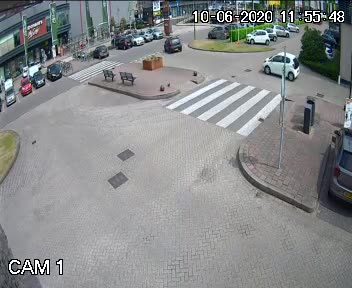car: (259, 48, 300, 82), (164, 34, 181, 54)
